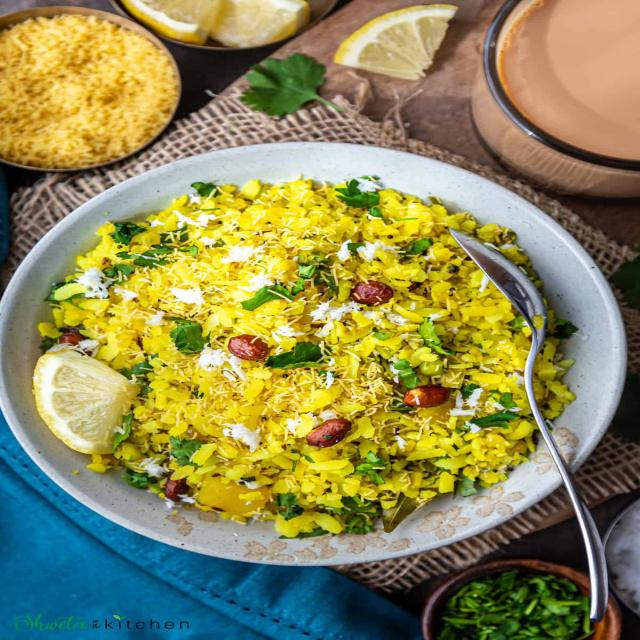POHA: (37, 176, 534, 534)
